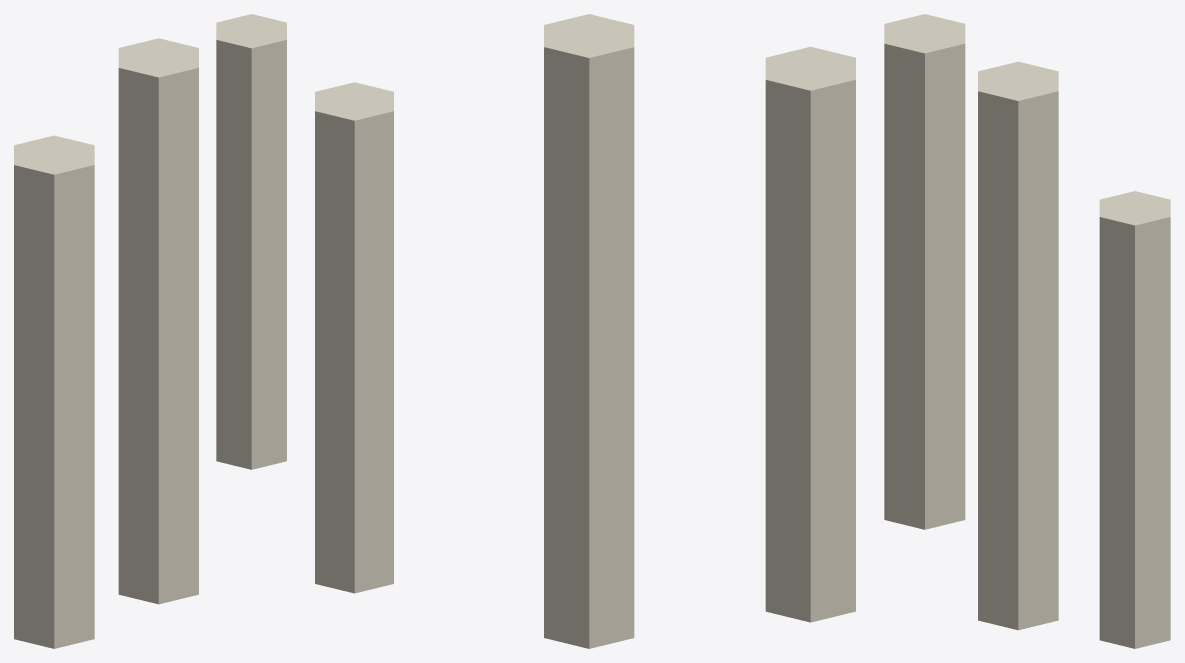
The model's file is haunted_bones_scatter.glb.
3 views of the same model, side by side, from view 1: azimuth 30°, elevation 25°; view 2: azimuth 150°, elevation 25°; view 3: azimuth 270°, elevation 25° (orthographic). The views are drawn at different scales.
Parts seen in each view (by area): view 1: Haunted_Bones_Scatter; view 2: Haunted_Bones_Scatter; view 3: Haunted_Bones_Scatter.
Part boxes in pixels (x1=…): Haunted_Bones_Scatter: x1=14, y1=14, x2=286, y2=648; Haunted_Bones_Scatter: x1=315, y1=14, x2=855, y2=648; Haunted_Bones_Scatter: x1=884, y1=14, x2=1170, y2=648.
Bounding box in the file's own units: 0.375 × 0.5 × 0.245.
